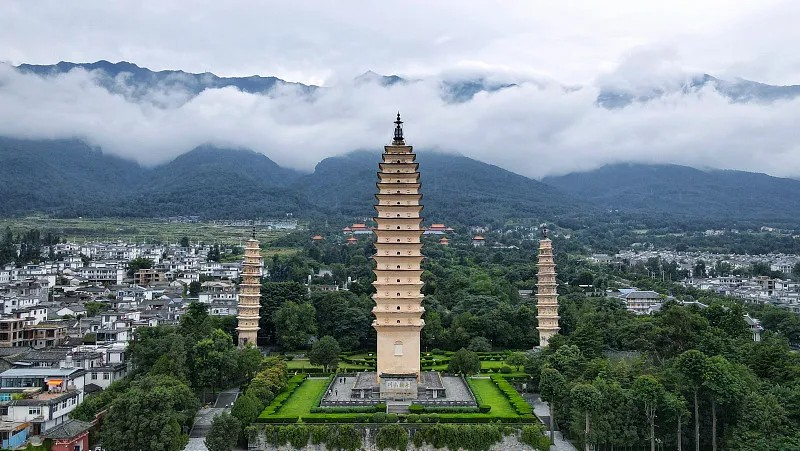ThreePagoda: (372, 111, 425, 382)
